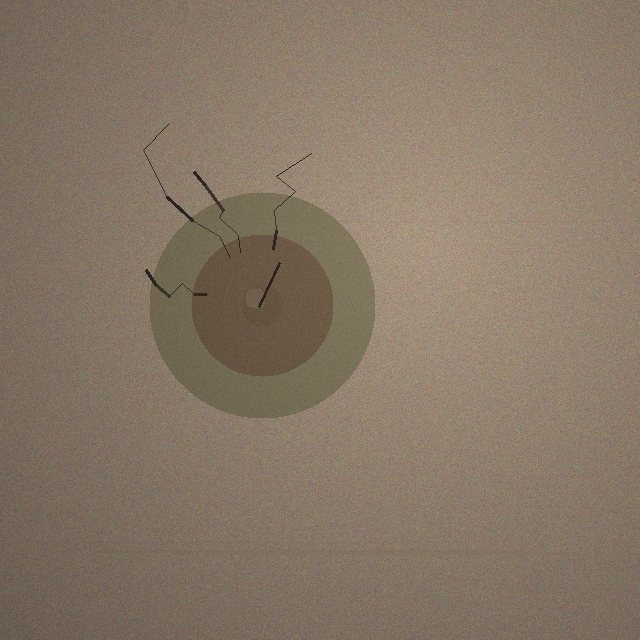crack: (149, 192, 375, 418)
